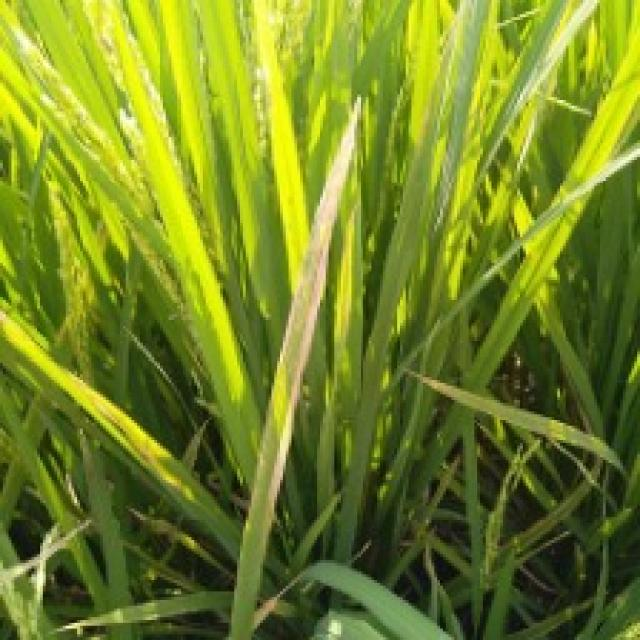Rice___Bacterial_Leaf_Blight: (224, 96, 362, 637)
